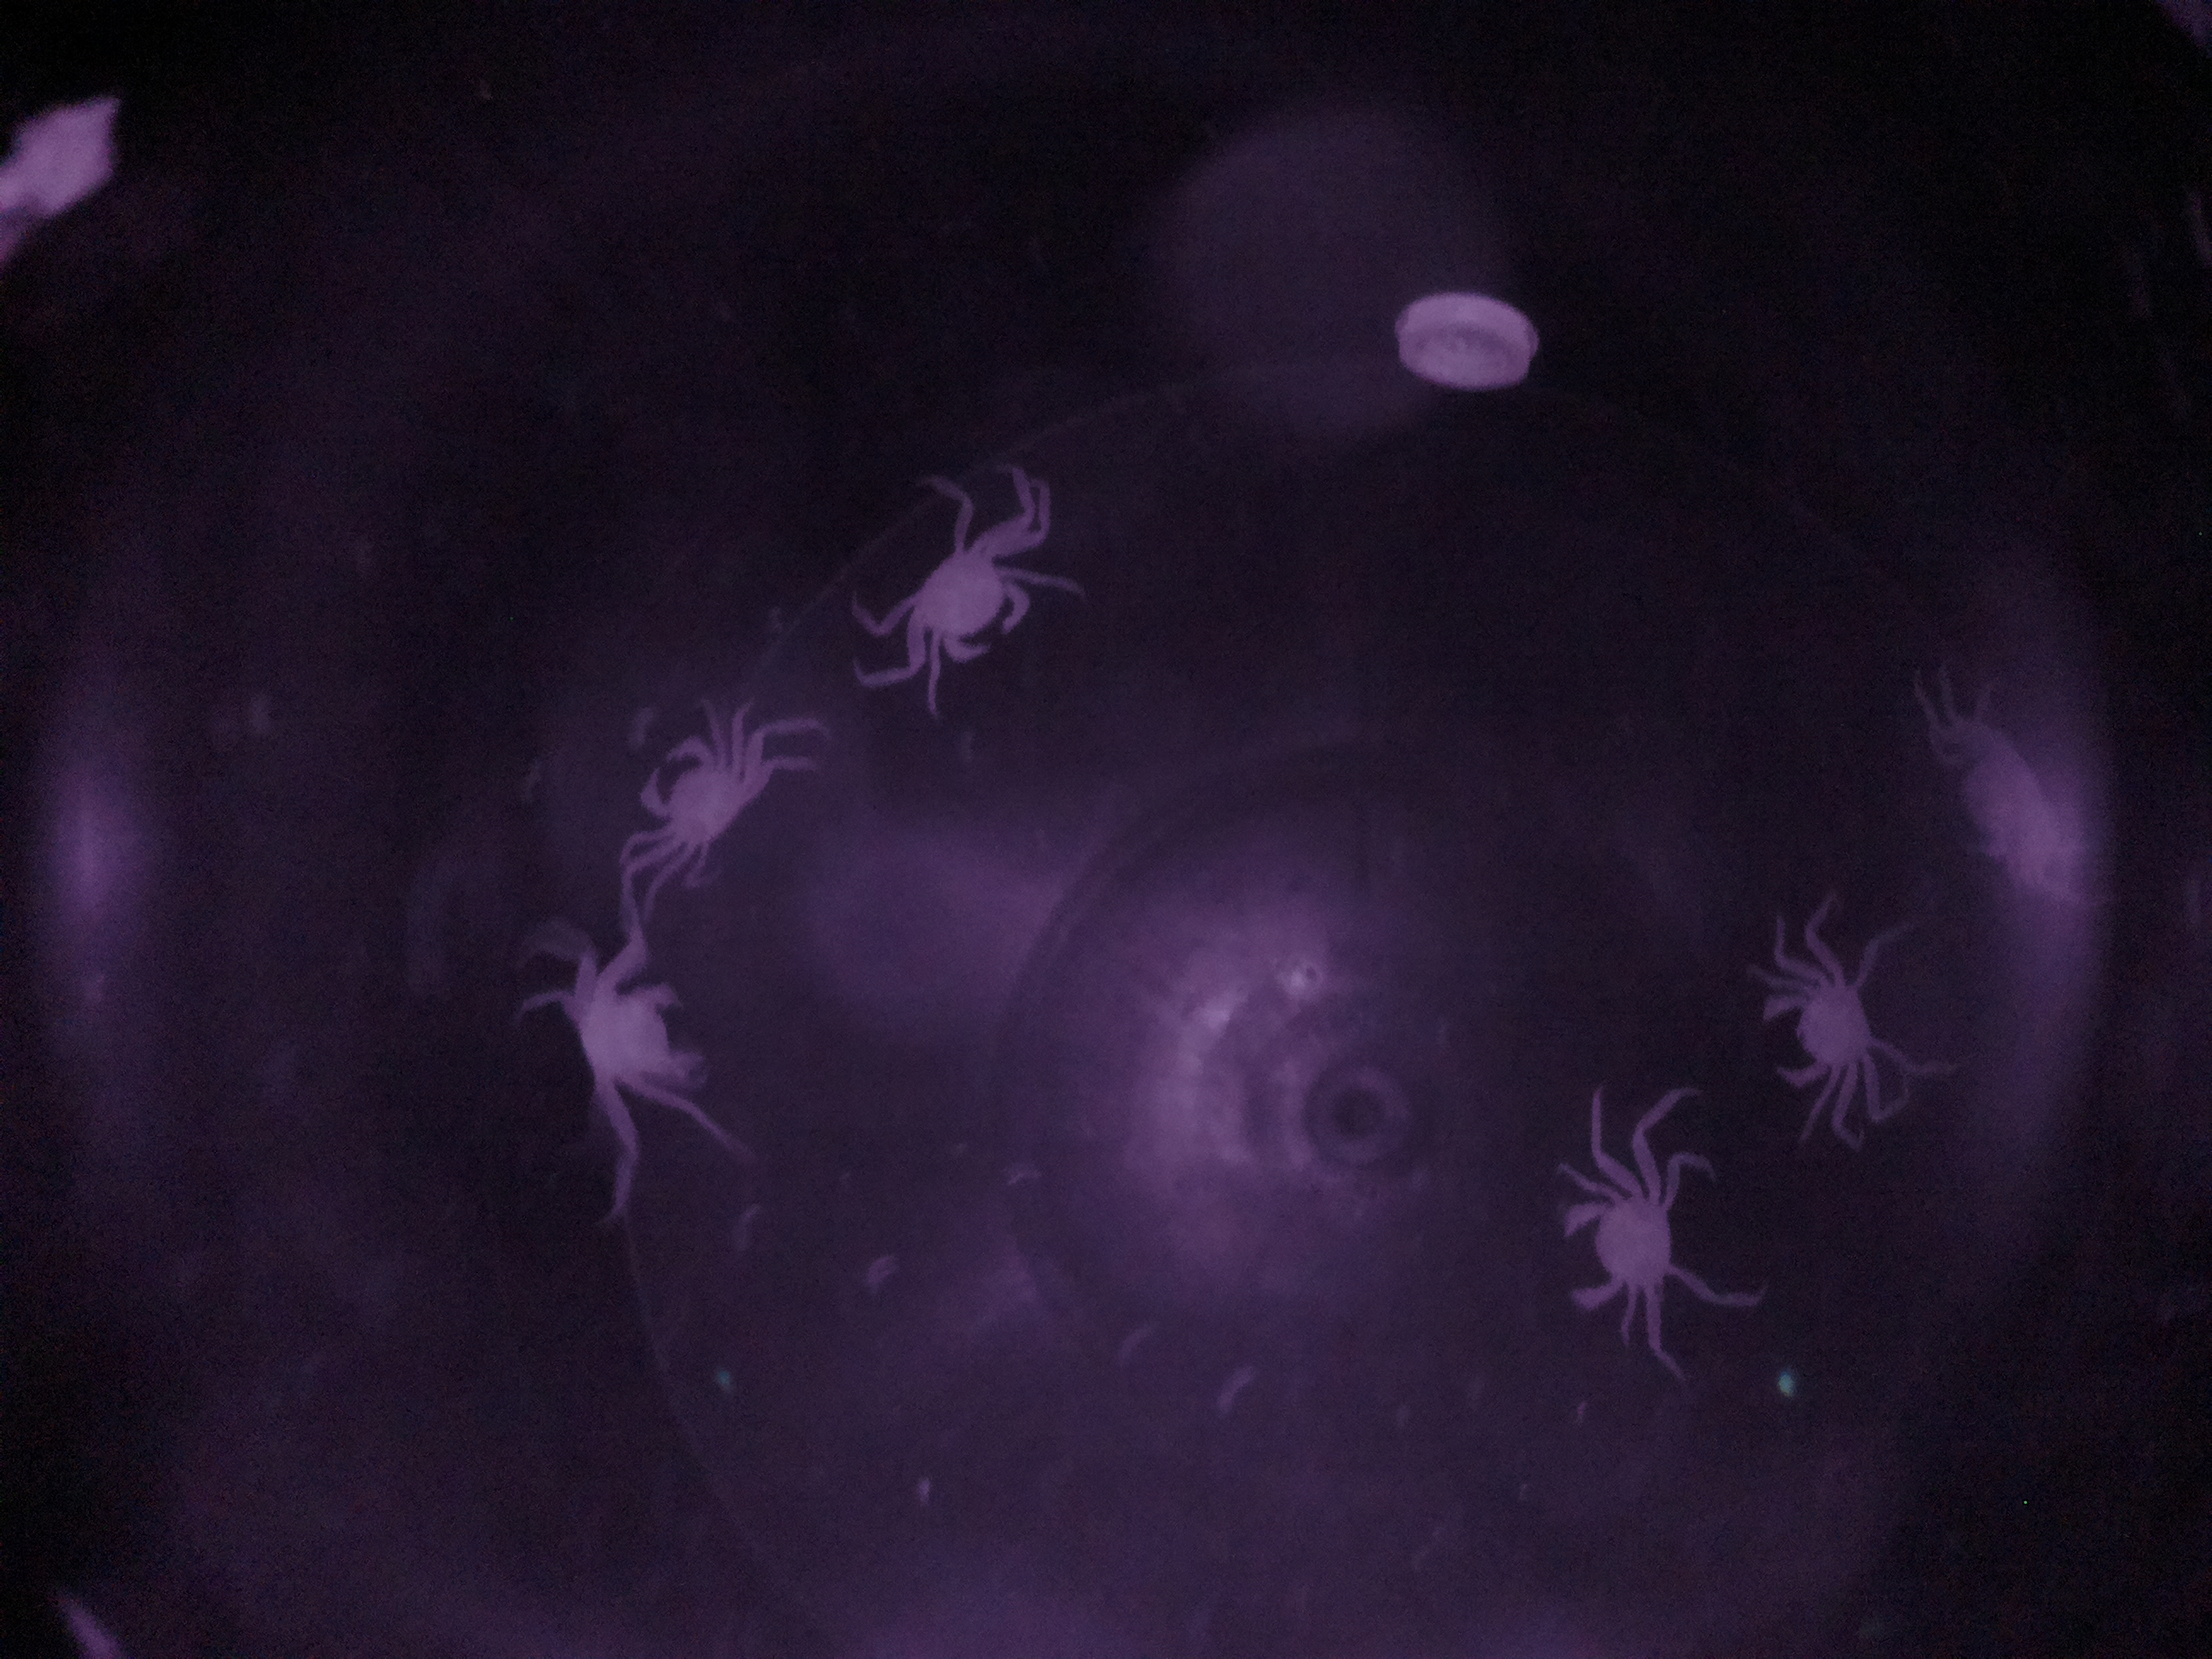Crab: (554, 936, 749, 1136), (883, 500, 1035, 680), (1552, 1159, 1691, 1347), (627, 721, 786, 877), (1745, 951, 1892, 1115)
